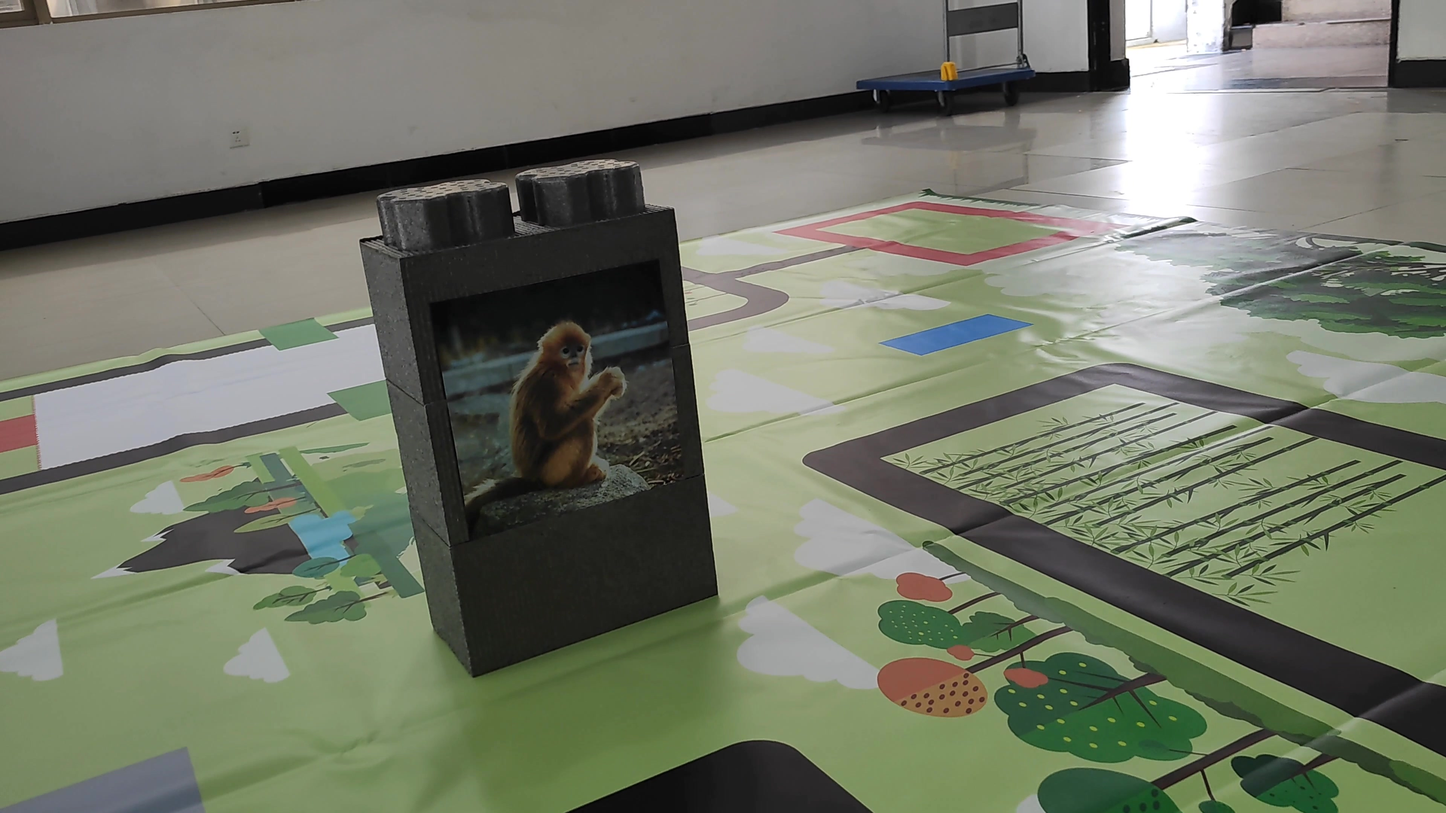monkey: (466, 304, 635, 513)
